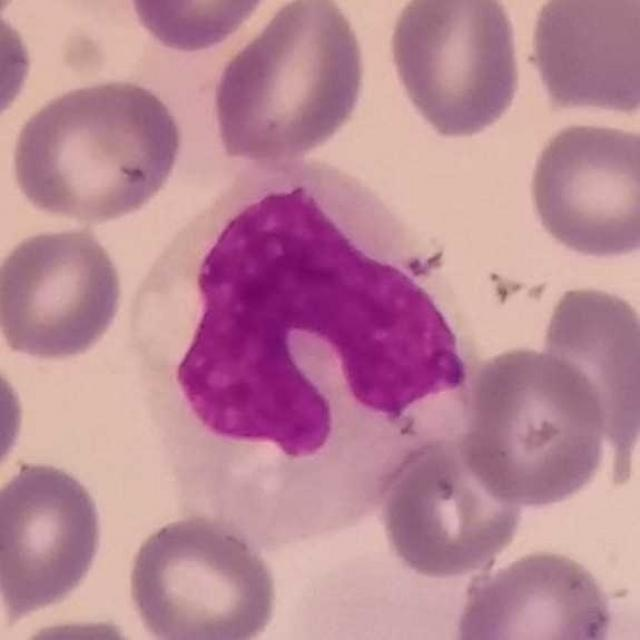Monocyte: (119, 162, 478, 554)
RBC: (206, 0, 372, 167), (6, 75, 188, 227), (457, 342, 612, 511), (375, 437, 528, 580), (122, 510, 283, 640), (382, 0, 526, 142), (534, 280, 640, 458), (1, 222, 129, 365), (0, 455, 109, 621), (523, 116, 640, 264), (448, 545, 616, 640), (522, 0, 640, 120), (124, 0, 280, 55), (0, 1, 37, 136), (3, 612, 160, 640), (0, 350, 29, 496), (559, 590, 639, 639)
